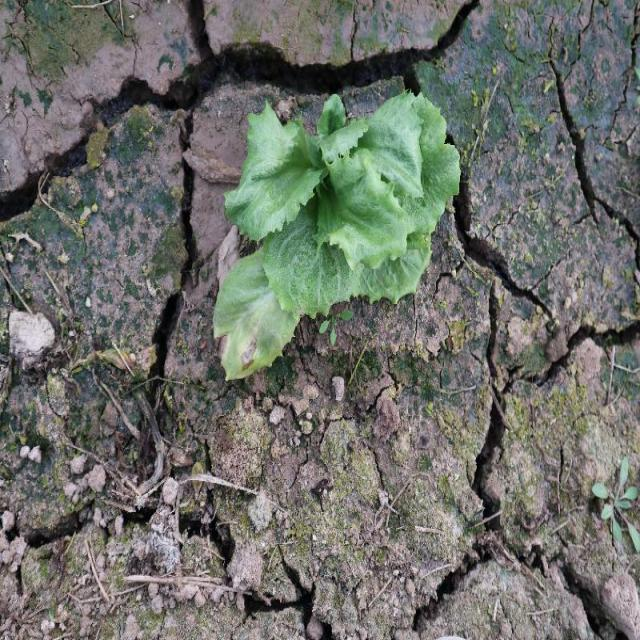crop: (212, 90, 464, 382)
